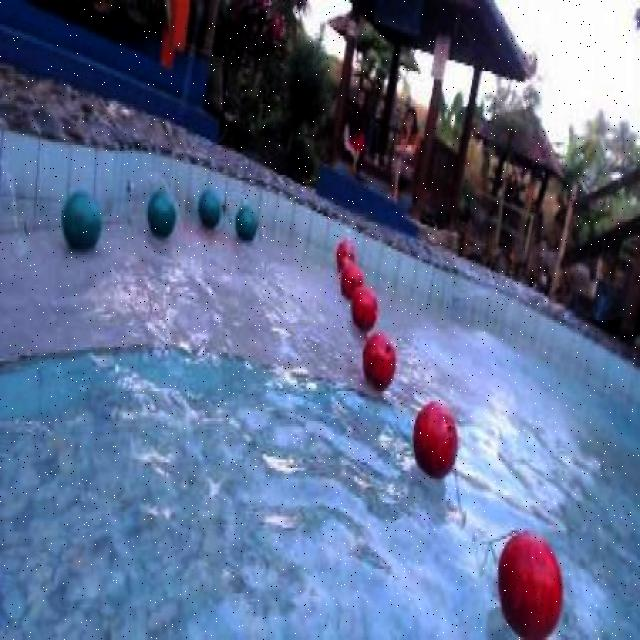buoy: (496, 528, 562, 637), (412, 402, 458, 478), (60, 188, 100, 250), (361, 331, 396, 391), (144, 188, 176, 238), (352, 286, 378, 333), (198, 188, 220, 227), (235, 204, 258, 240), (340, 262, 361, 301), (335, 237, 355, 272)
